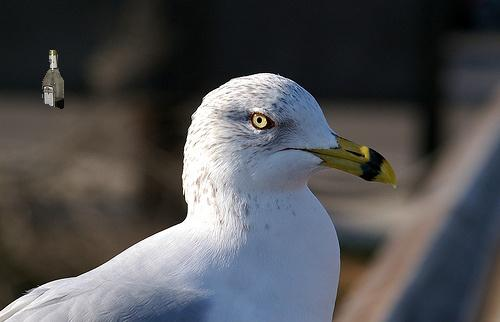tampered: (43, 51, 64, 109)
